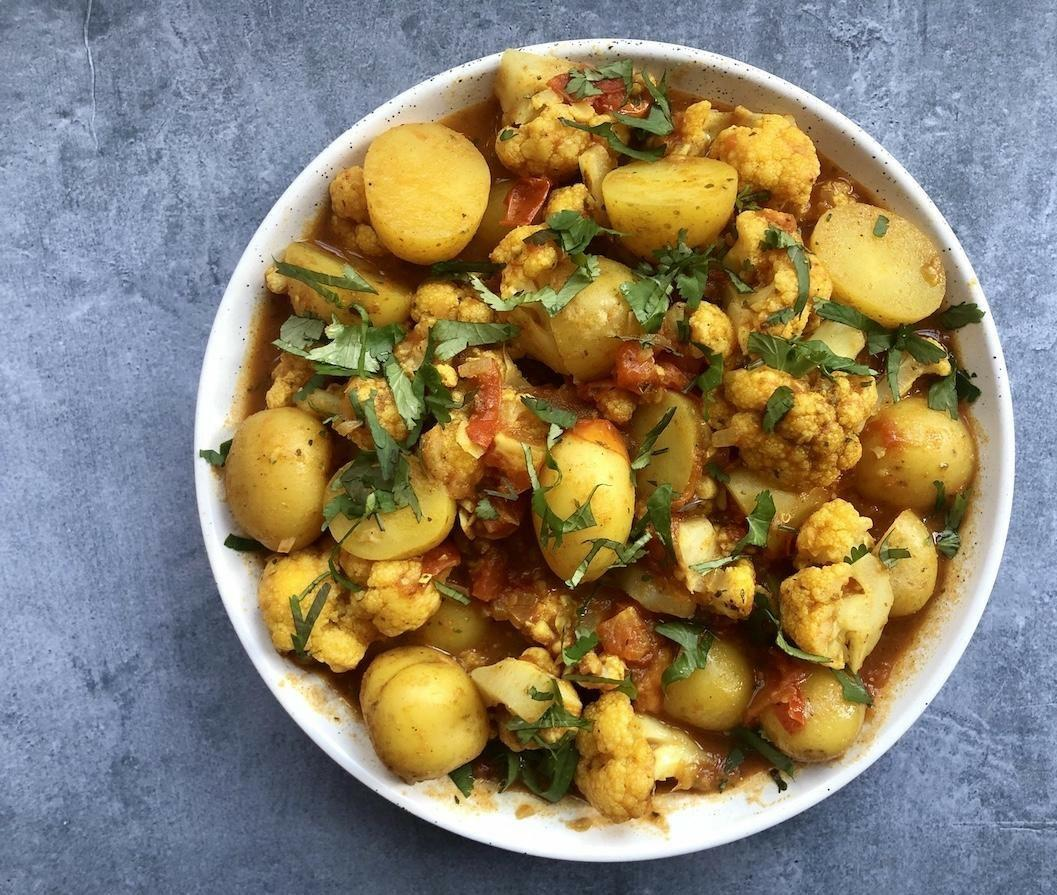AlooGobi: (221, 48, 979, 826)
